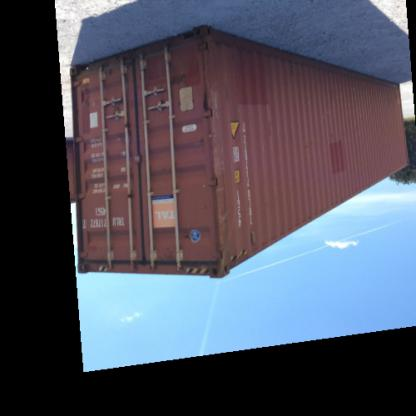Damage: (204, 124, 235, 280), (206, 39, 223, 125), (161, 46, 196, 76)
